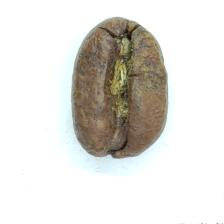NG: (92, 28, 152, 150)
